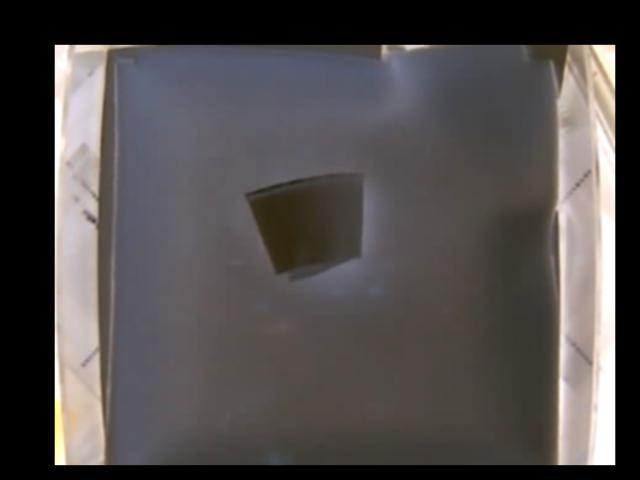Cup: (243, 169, 362, 280)
